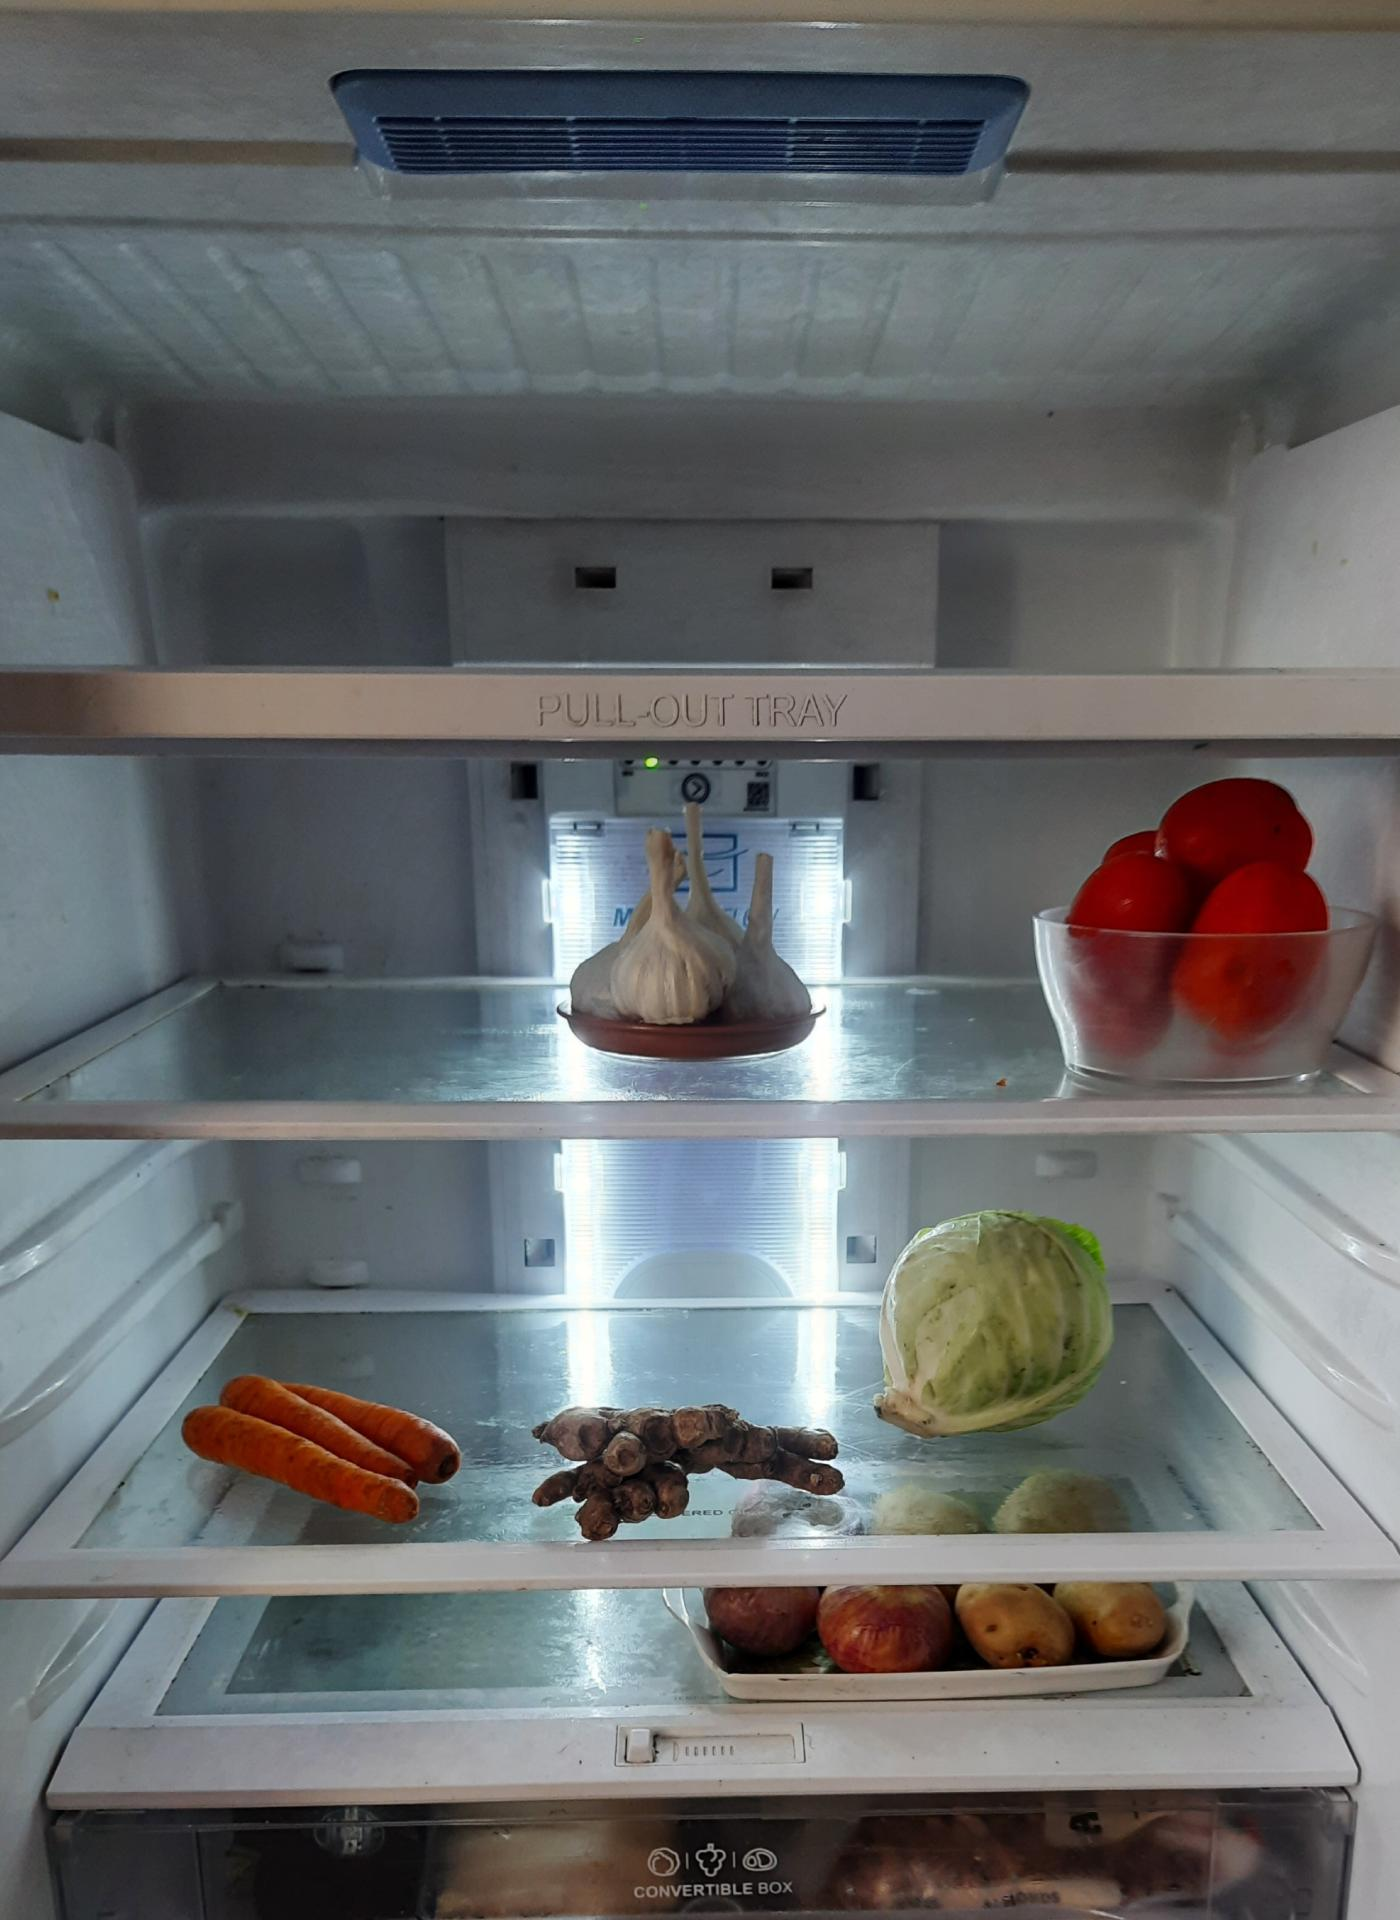cabbage: (881, 1203, 1117, 1439)
carrots: (180, 1367, 474, 1520)
garlic: (558, 805, 808, 1043)
ginger: (549, 1406, 875, 1540)
onion: (711, 1501, 975, 1668)
potato: (965, 1483, 1202, 1661)
tomato: (1060, 766, 1354, 1060)
